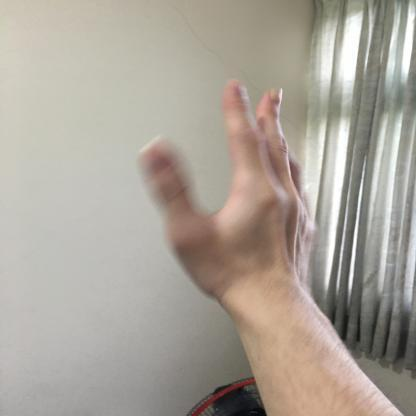bare_hand: (123, 72, 337, 320)
